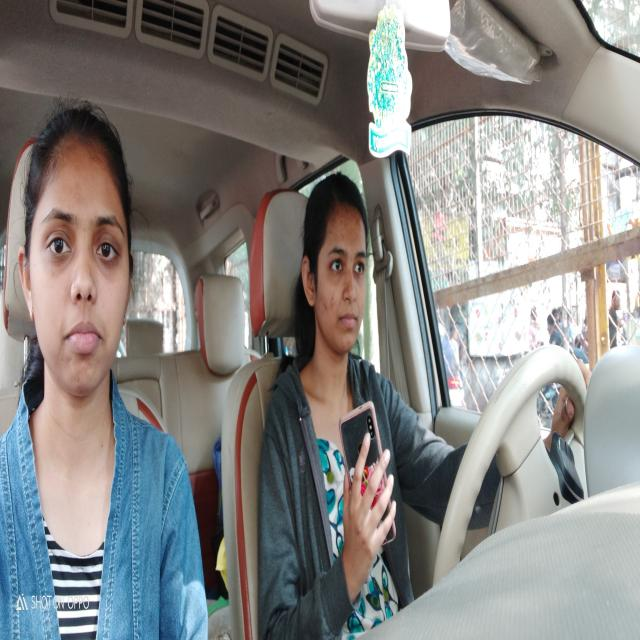mobile: (340, 401, 400, 559)
person: (23, 109, 134, 416), (302, 174, 371, 375)
